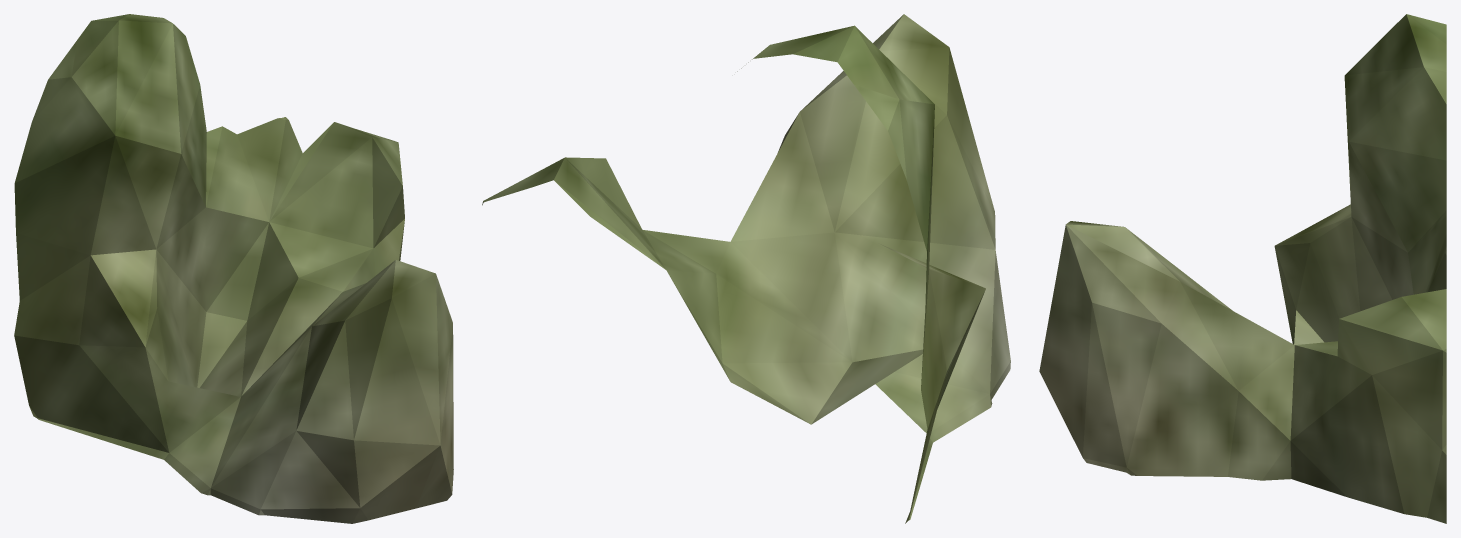
The picture shows the model from 3 angles, left to right: view 1: azimuth 30°, elevation 25°; view 2: azimuth 150°, elevation 25°; view 3: azimuth 270°, elevation 25°; orthographic projection. The views are drawn at different scales.
Bounding box in the file's own units: 0.8639 × 0.8537 × 0.8399.
Materials: 1 (1 with a texture image).
